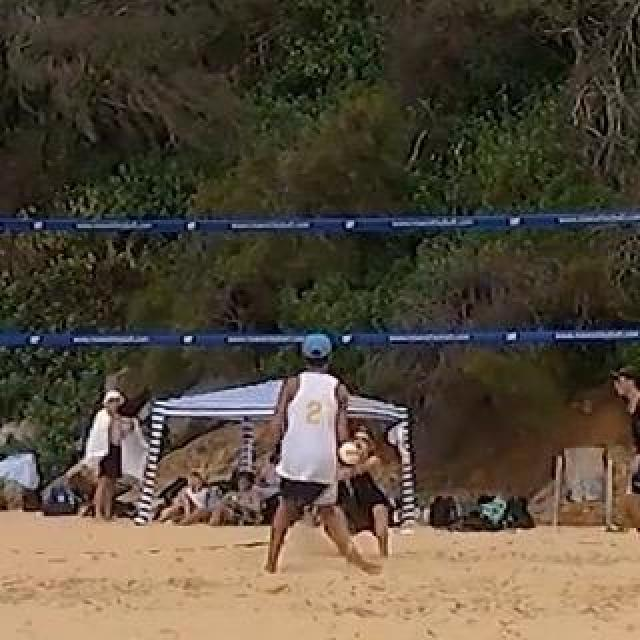volleyball: (334, 441, 360, 469)
